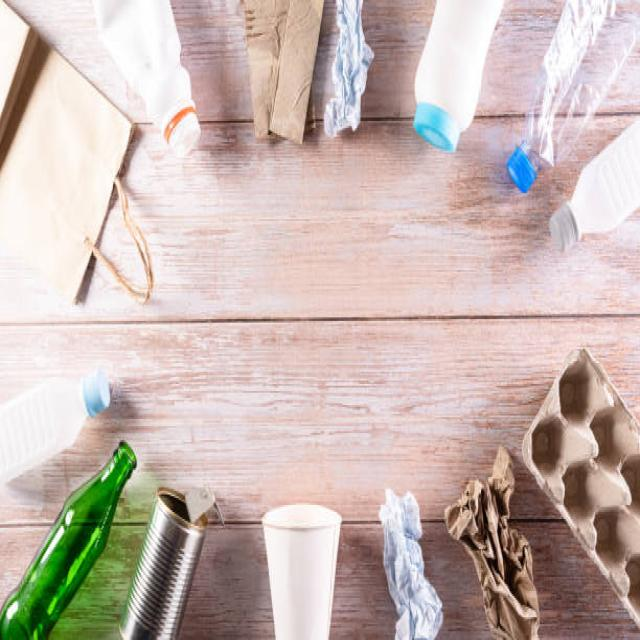cardboard: (561, 324, 640, 582)
metal: (139, 470, 229, 640)
paper: (214, 2, 370, 191), (373, 466, 540, 640)
plastic: (418, 9, 640, 231), (1, 402, 126, 481)
